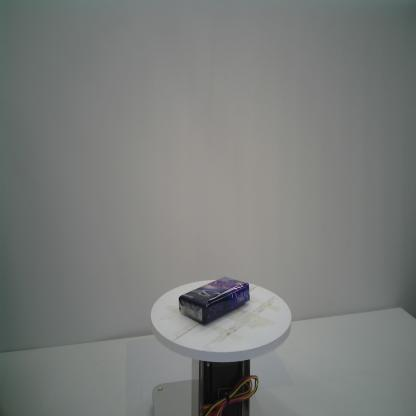Gum: (178, 277, 250, 323)
